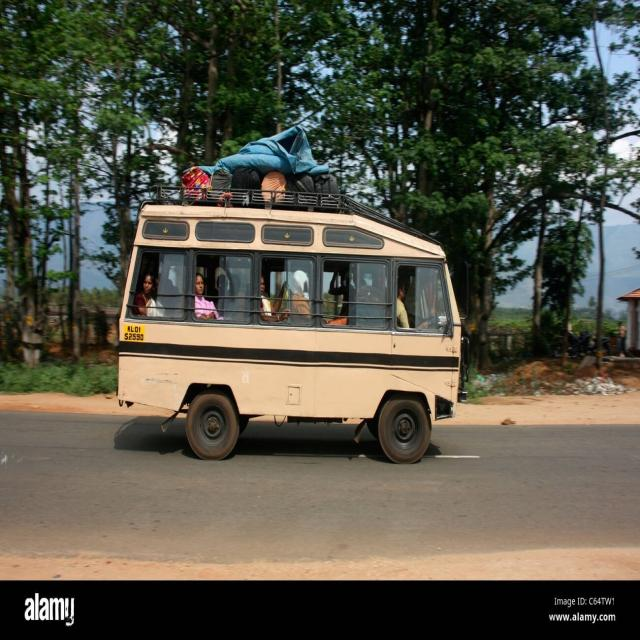bus: (118, 126, 469, 461)
